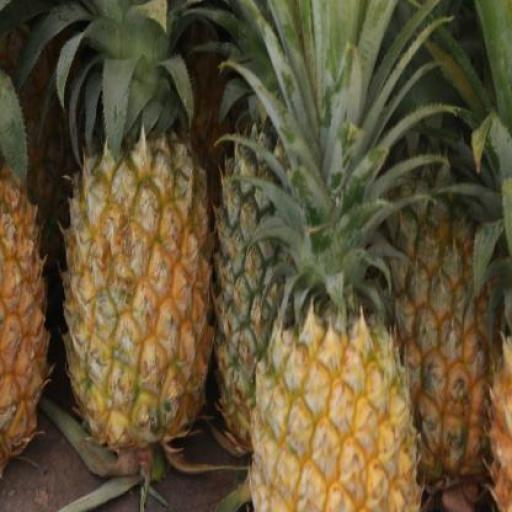------------------------------: (66, 140, 210, 447)
Pineapple - v8 v1: (252, 308, 418, 512)
